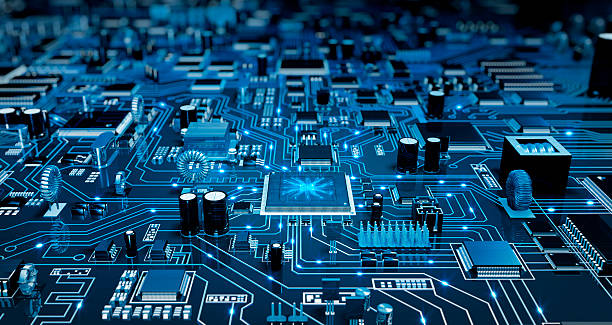capacitor: (200, 178, 240, 246), (390, 122, 423, 190), (168, 178, 201, 245), (422, 129, 448, 186), (119, 223, 146, 268), (262, 235, 289, 278)
